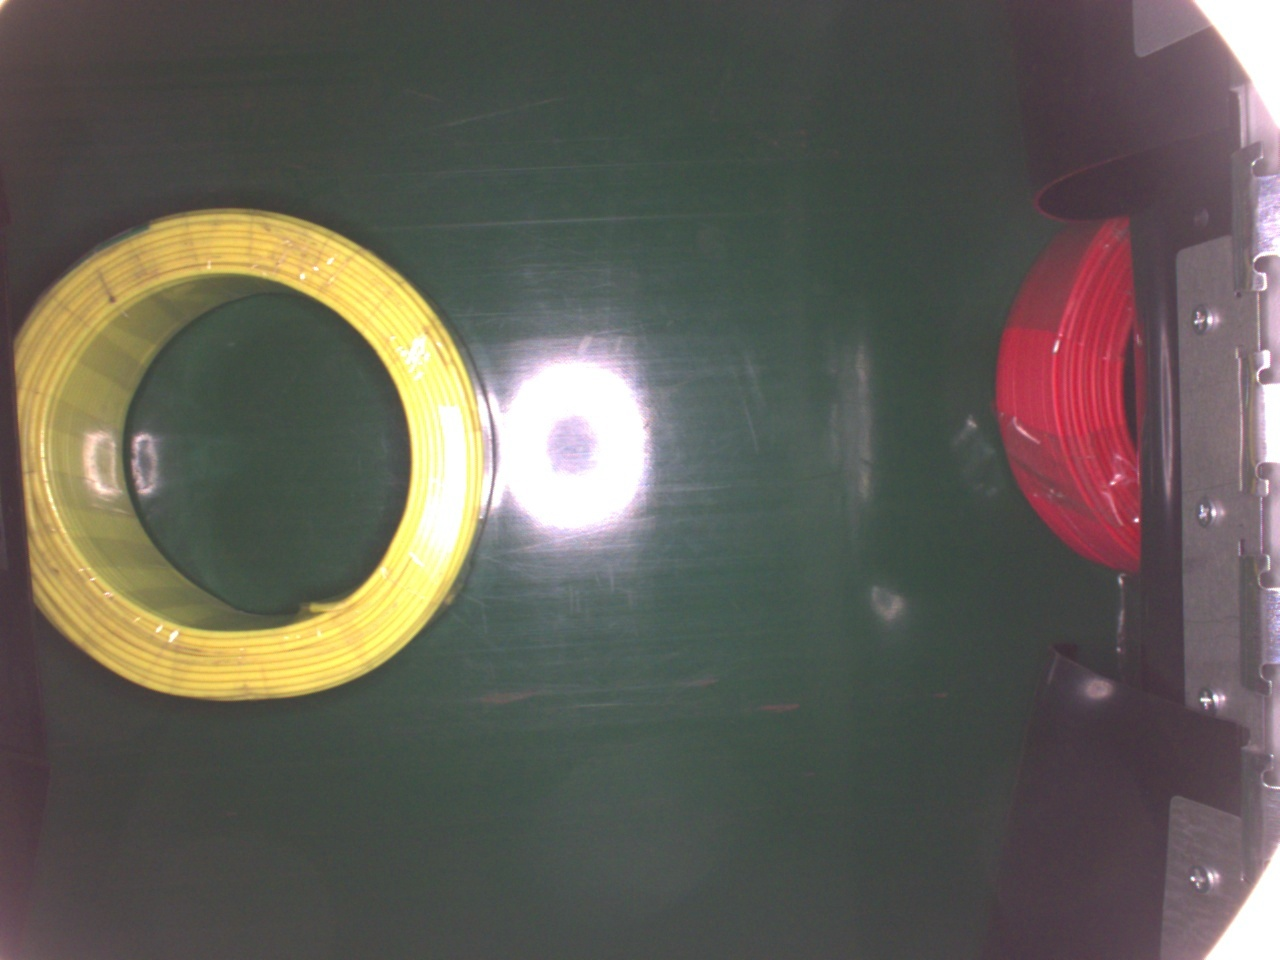red: (996, 219, 1151, 575)
yellow: (13, 205, 497, 707)
